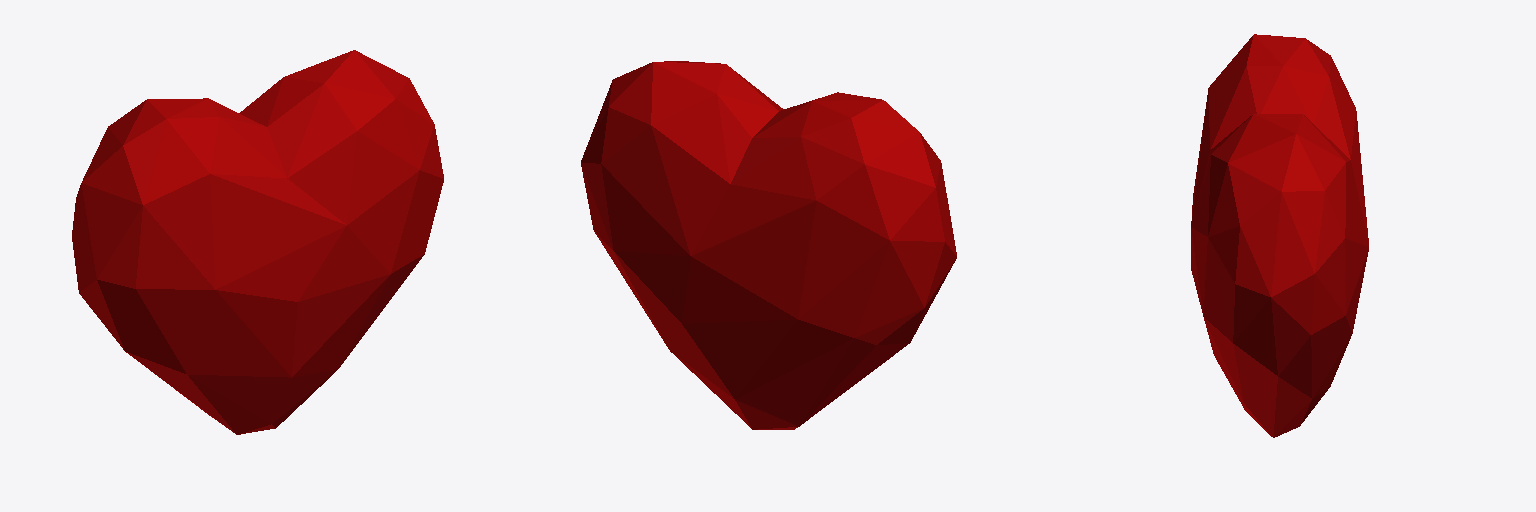
The model's file is heart.obj.
3 renders of one model, left to right at view 1: azimuth 30°, elevation 25°; view 2: azimuth 150°, elevation 25°; view 3: azimuth 270°, elevation 25°, orthographic.
Visible parts, largest first — view 1: 12190_Heart_v1_L3; view 2: 12190_Heart_v1_L3; view 3: 12190_Heart_v1_L3.
Part boxes in pixels (bbox=[...]): 12190_Heart_v1_L3: bbox=[72, 50, 443, 434]; 12190_Heart_v1_L3: bbox=[581, 61, 956, 429]; 12190_Heart_v1_L3: bbox=[1191, 34, 1368, 437].
Bounding box in the file's own units: 21.53 × 19.83 × 9.22.